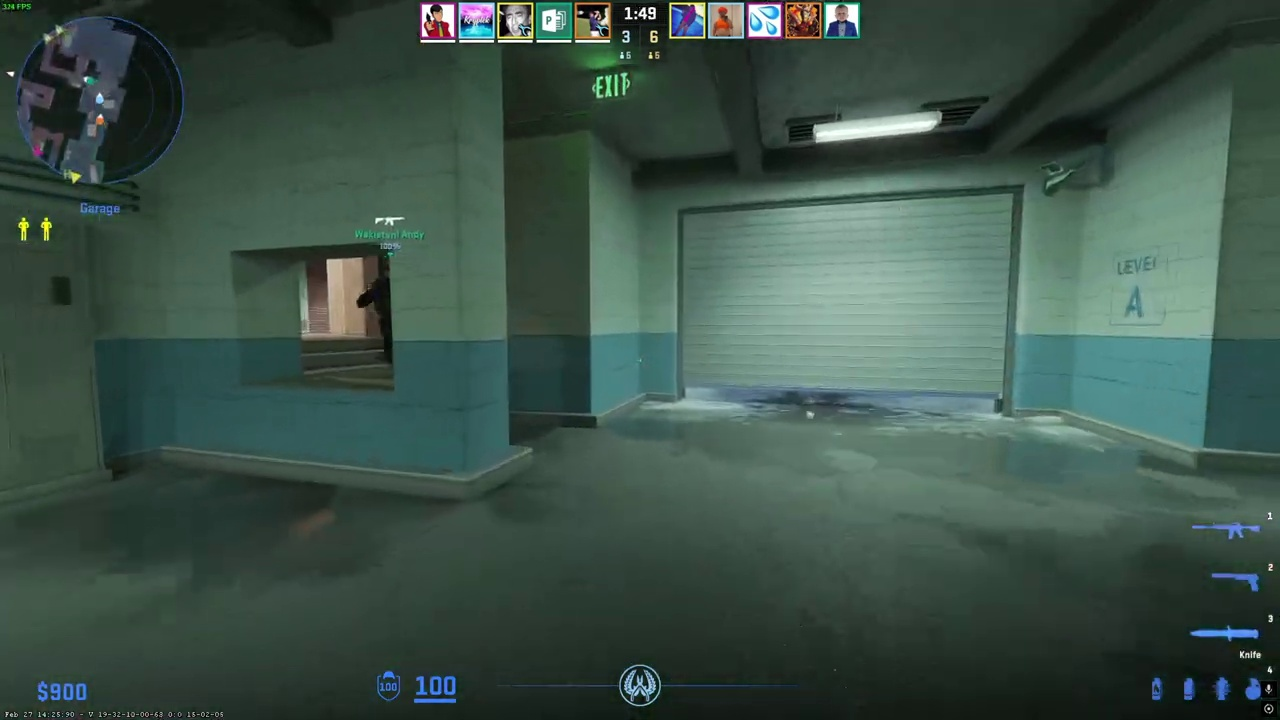CT: (363, 265, 392, 364)
